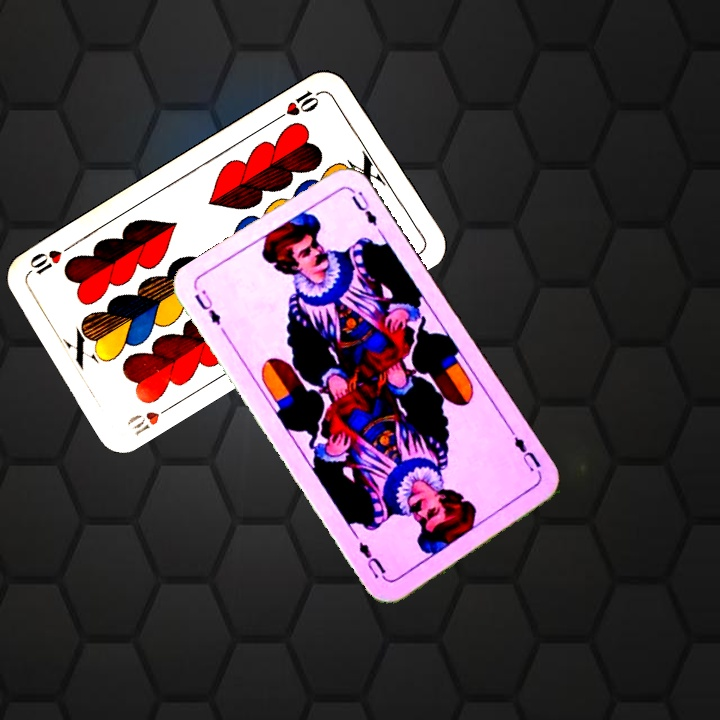EU: (507, 427, 545, 481), (190, 285, 224, 328)
H10: (123, 400, 178, 439), (272, 86, 326, 123)
